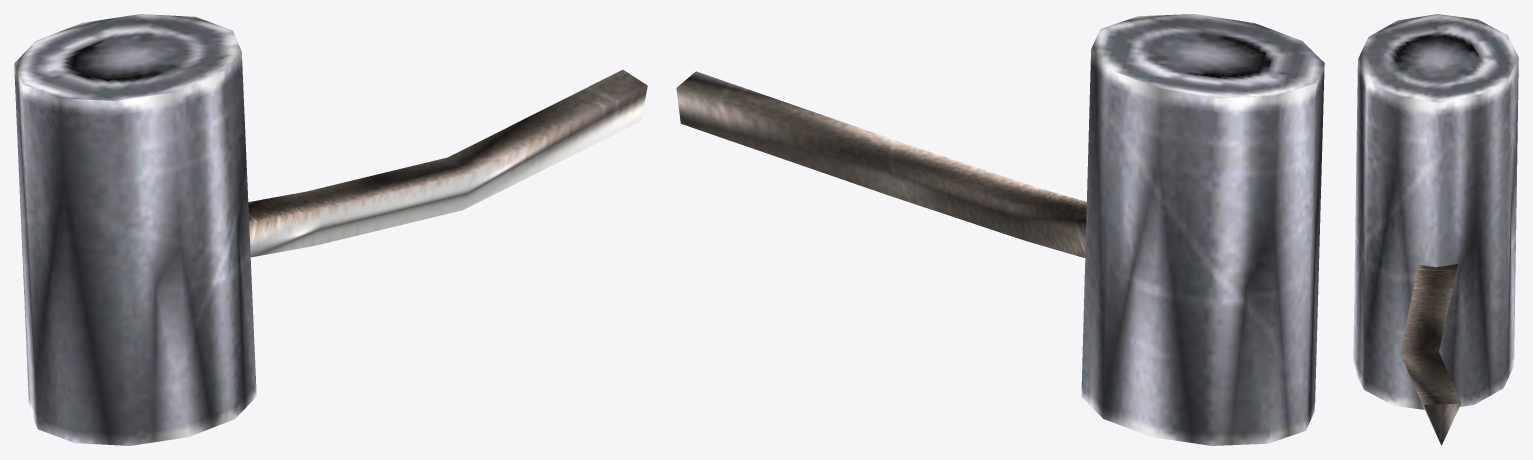
File: Robot01.LeftShoulder2.fbx
3 renders of one model, left to right at view 1: azimuth 30°, elevation 25°; view 2: azimuth 150°, elevation 25°; view 3: azimuth 270°, elevation 25°, orthographic. The views are drawn at different scales.
Parts seen in each view (by area): view 1: Robot01.LeftShoulder2; view 2: Robot01.LeftShoulder2; view 3: Robot01.LeftShoulder2.
Part boxes in pixels (left/top/right/bottom): Robot01.LeftShoulder2: left=14, top=14, right=647, bottom=445; Robot01.LeftShoulder2: left=676, top=14, right=1324, bottom=445; Robot01.LeftShoulder2: left=1353, top=14, right=1518, bottom=445.
Size of the model in its own units: 38.54 by 20.71 by 10.16.
